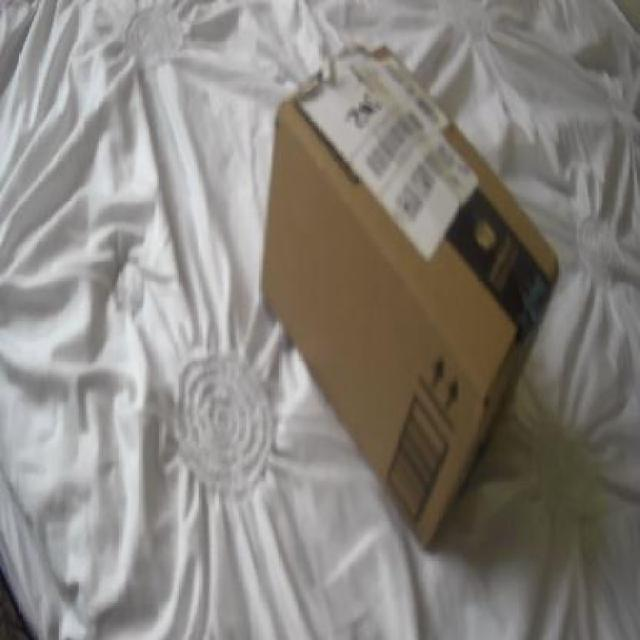cardboxes: (251, 36, 569, 569)
